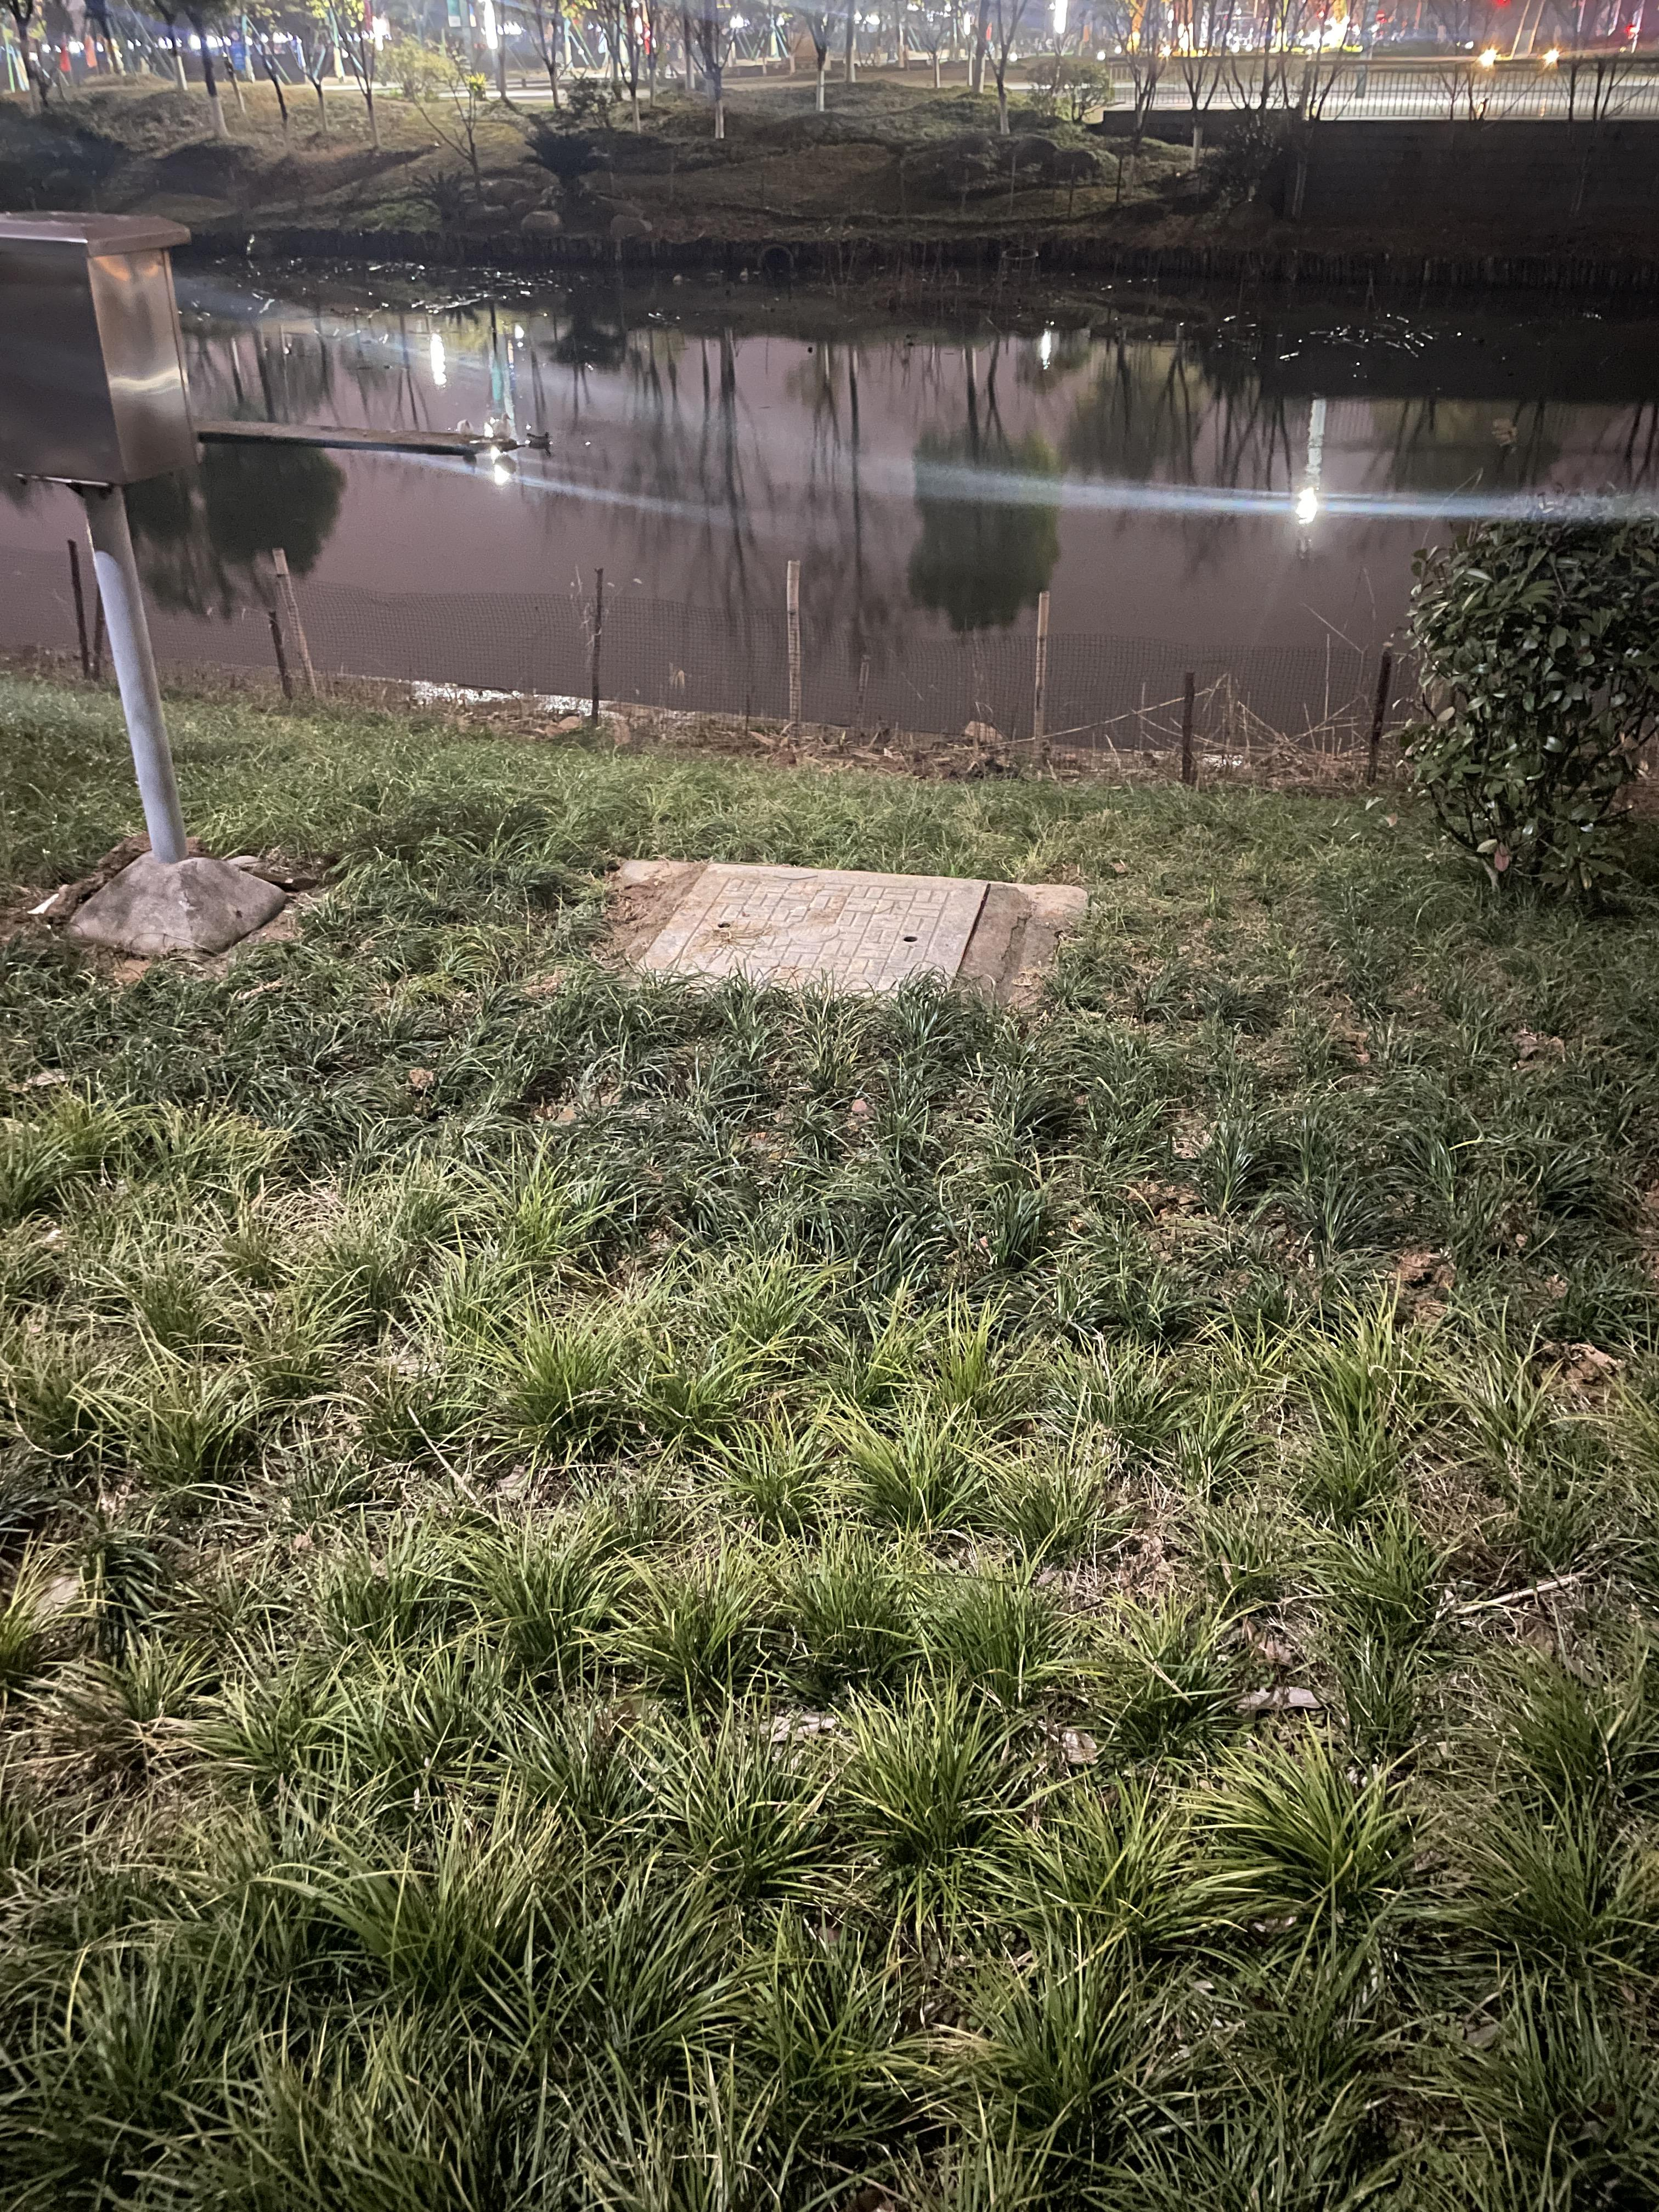wellcover: (589, 798, 1100, 1040)
